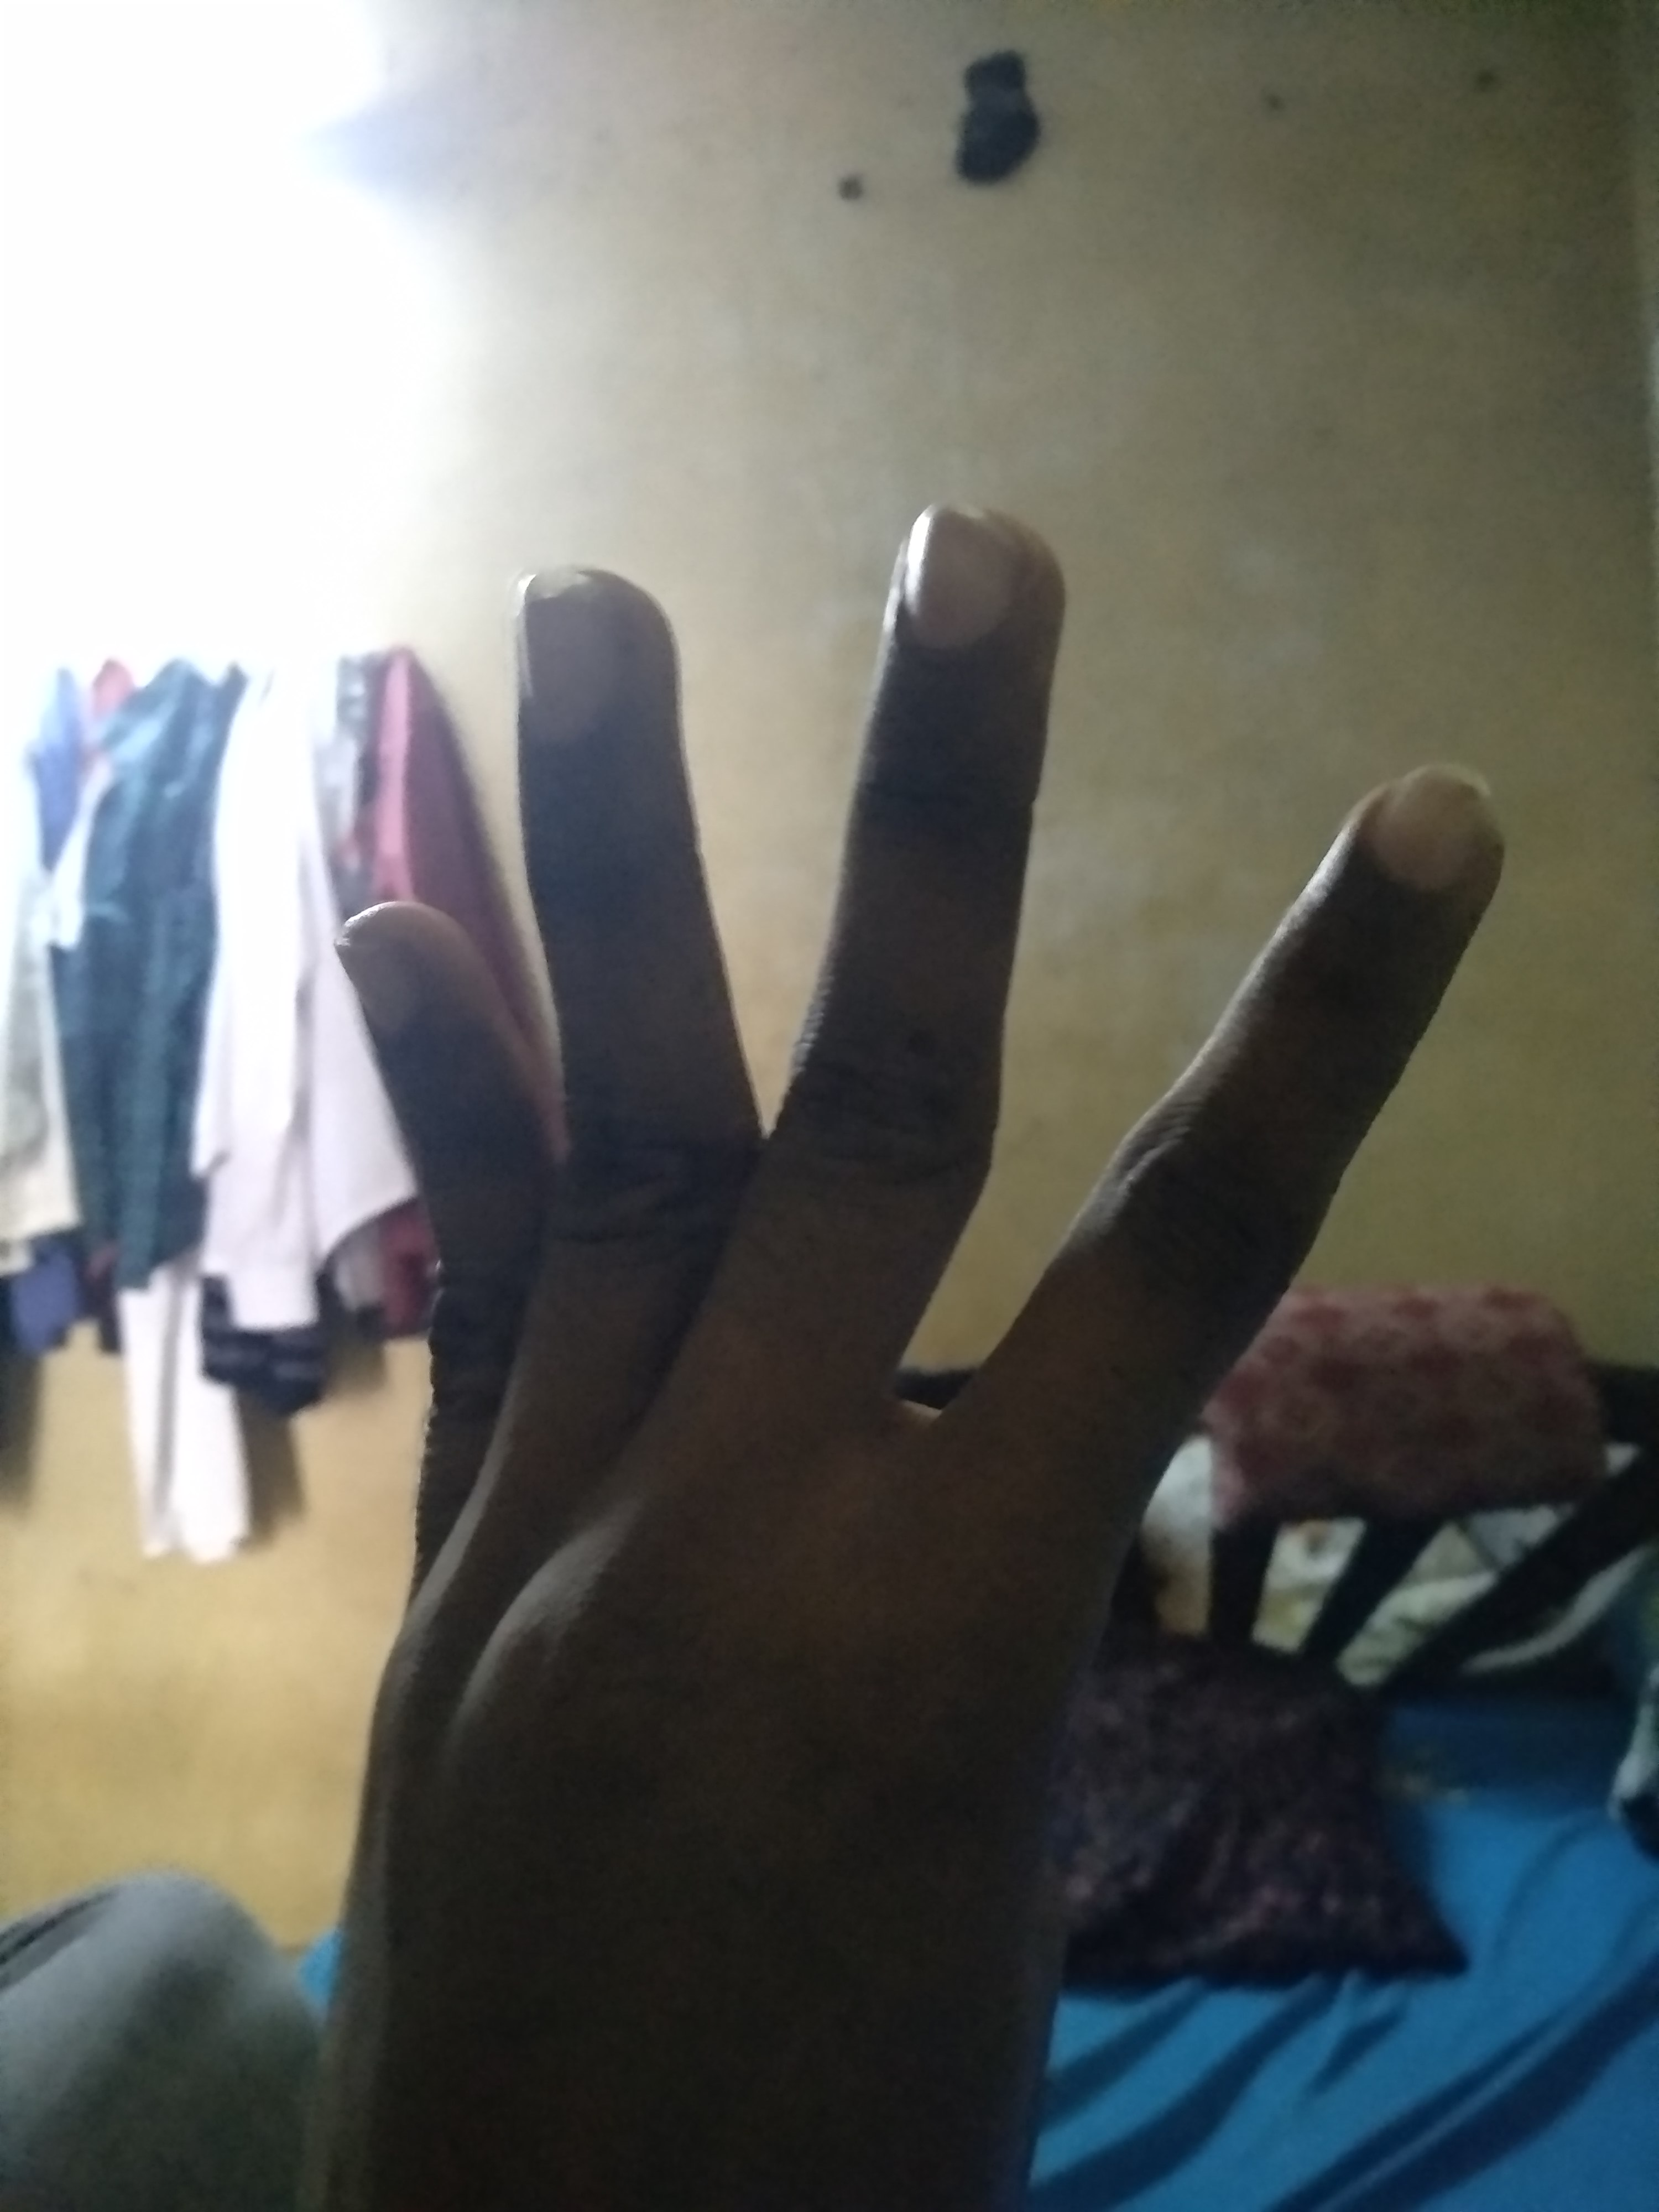four: (270, 542, 1236, 1036)
